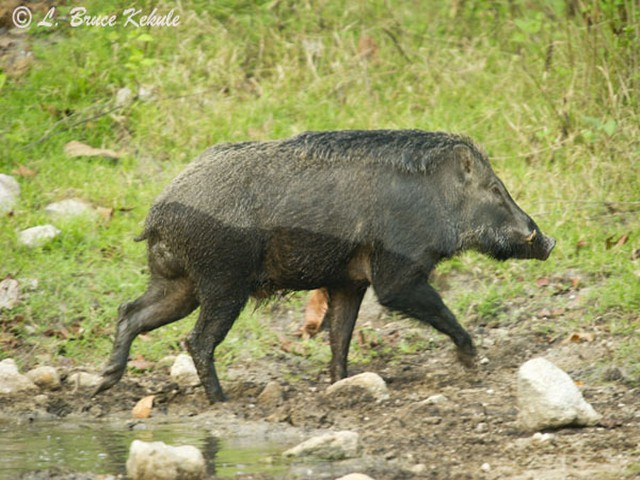Pig: (96, 126, 569, 364)
